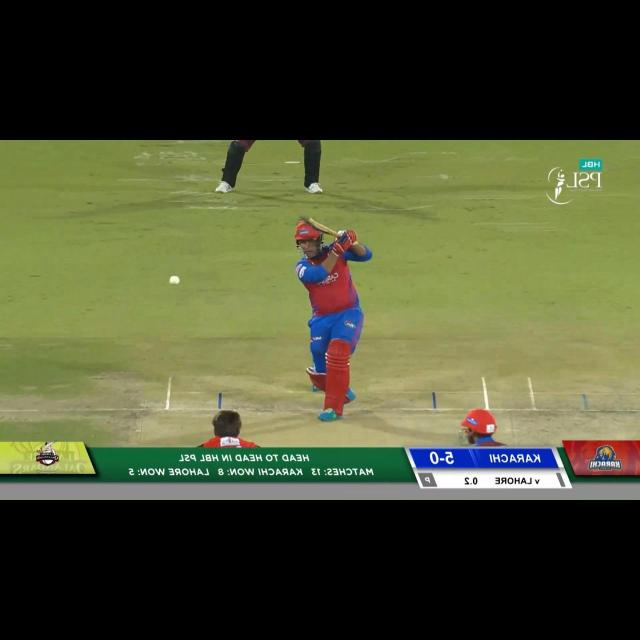bat: (301, 213, 340, 237)
toe: (300, 211, 314, 223)
